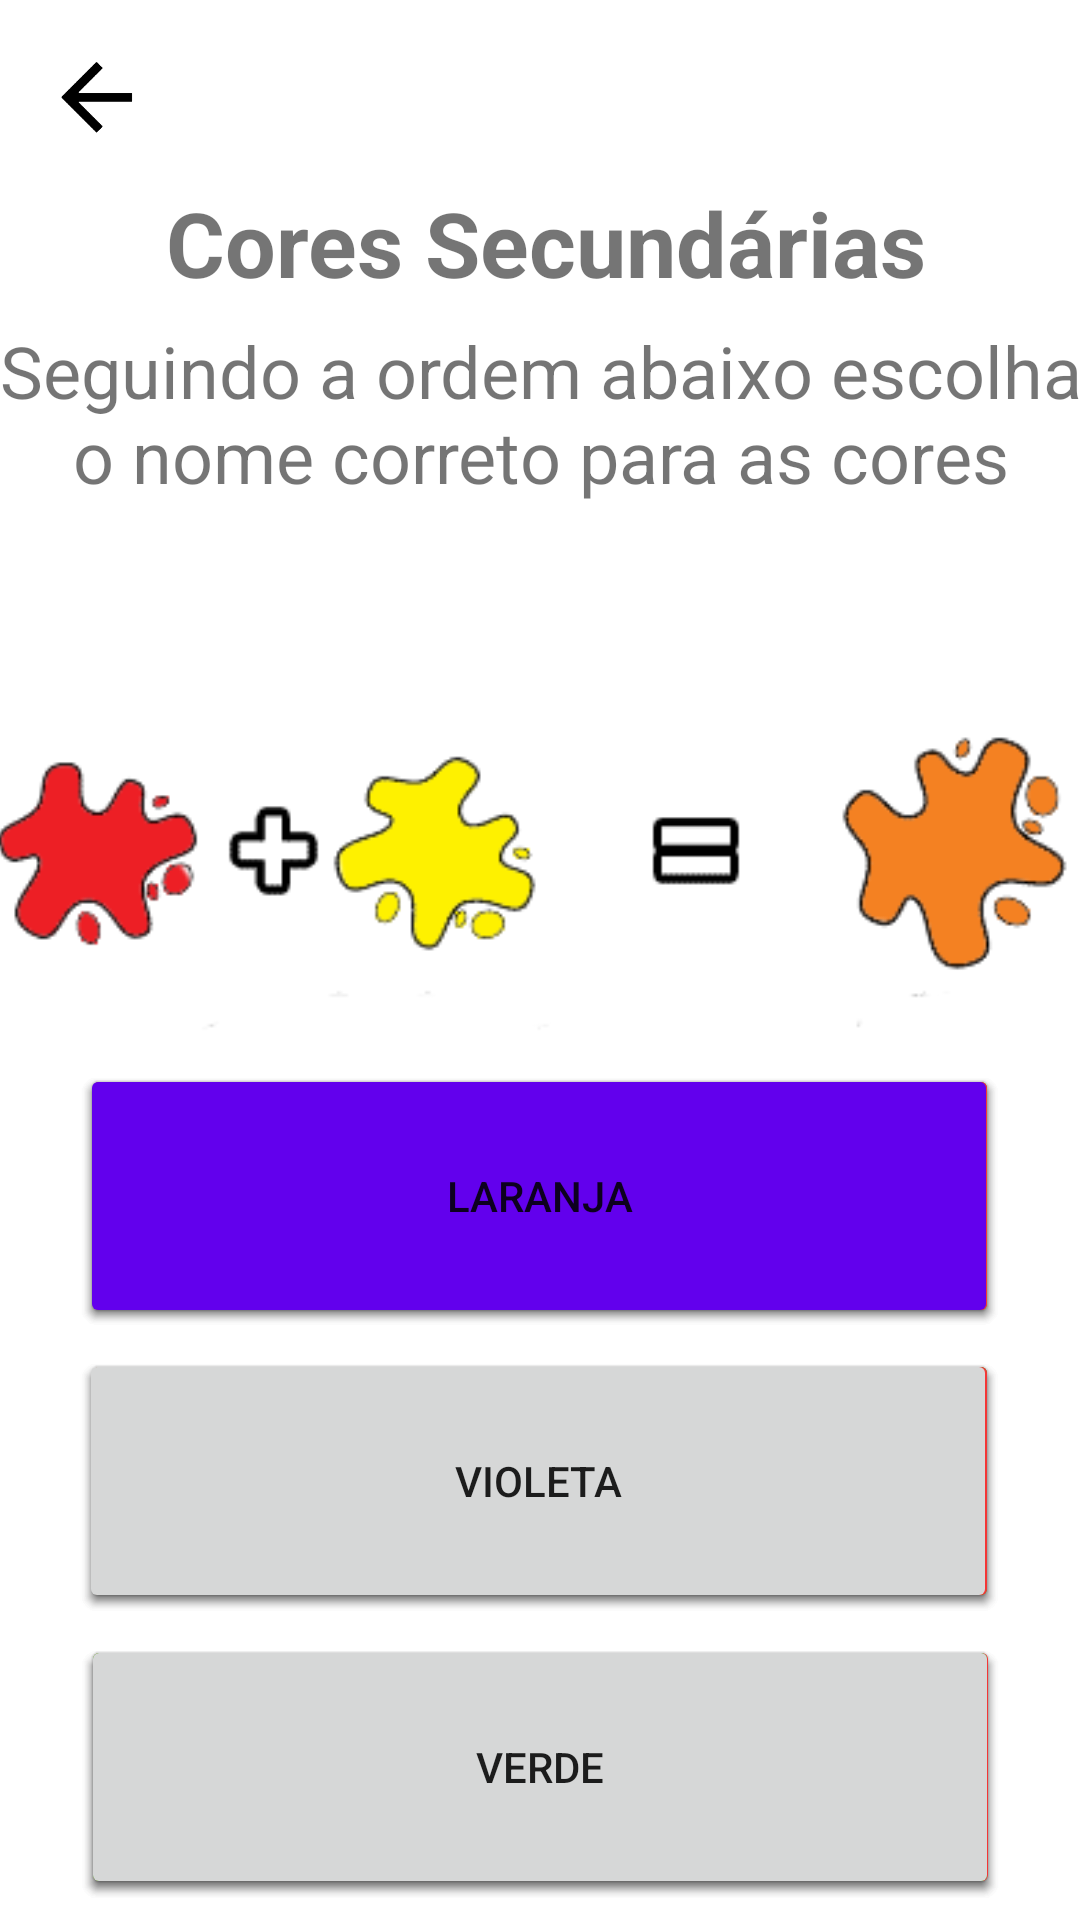

Where to tap for icons on this 1080w x 1920h app screen, as point (x, y):
voltarp: point (96, 97)
